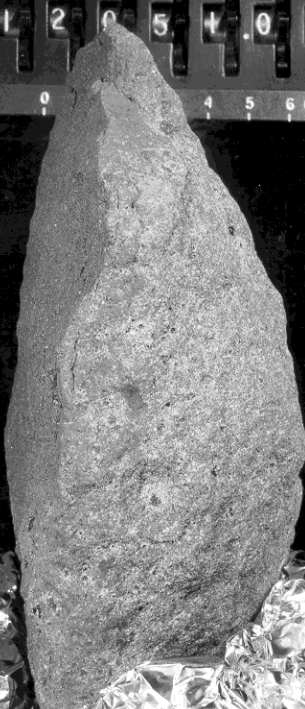Basalt: (3, 0, 262, 610)
